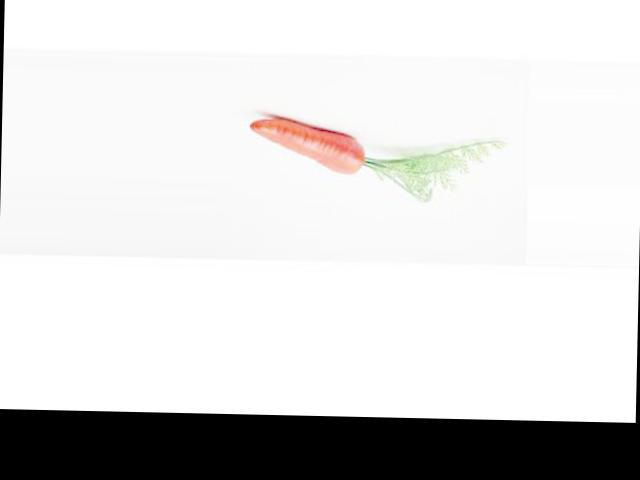carrot: (234, 102, 370, 178)
